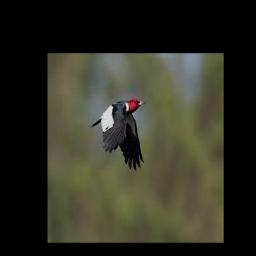Woodpecker: (89, 98, 146, 170)
